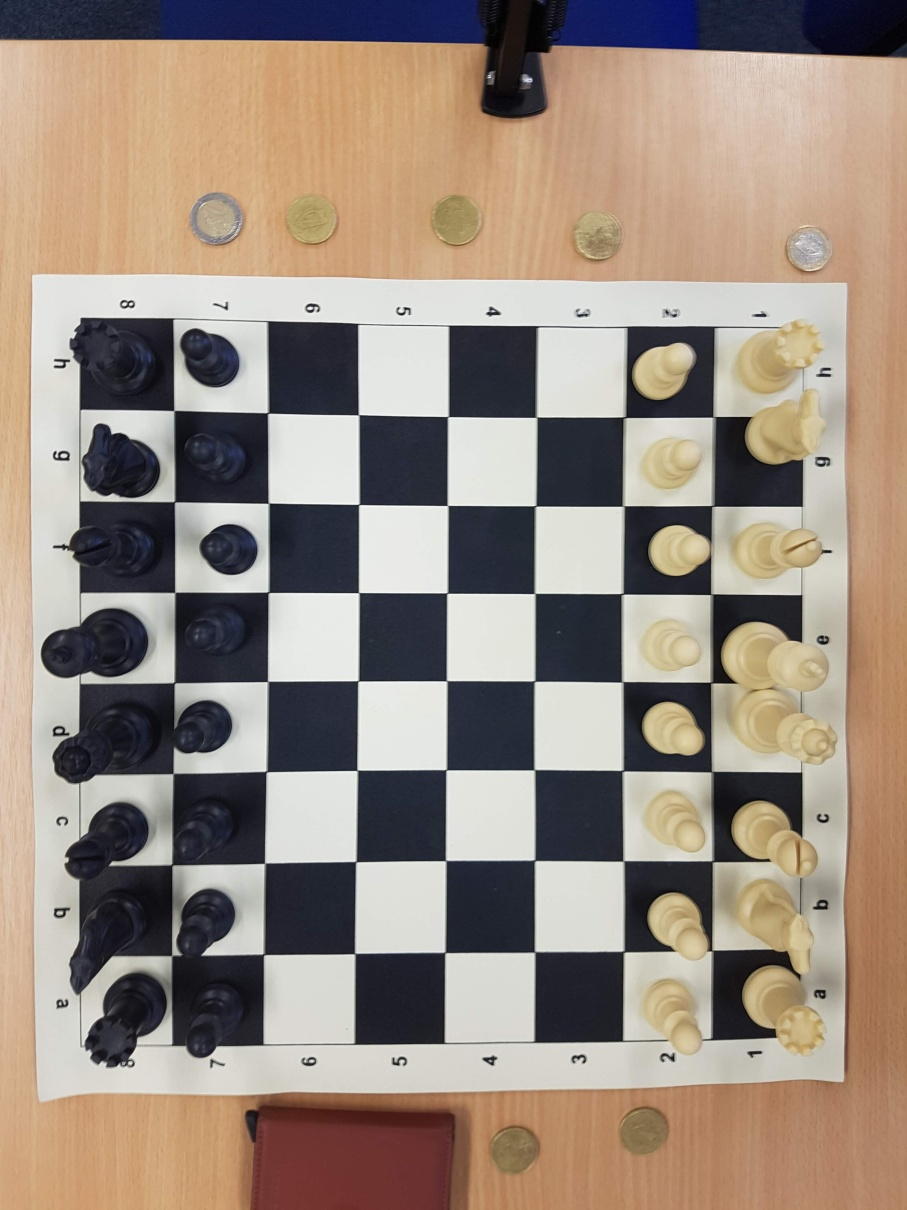chess_bishop: (64, 801, 150, 881), (732, 800, 818, 877), (69, 521, 158, 579), (734, 522, 823, 578)
chess_king: (720, 617, 828, 691), (40, 608, 146, 679)
chess_knight: (68, 889, 144, 993), (736, 880, 818, 971), (82, 422, 163, 499), (746, 391, 827, 466)
chess_pawn: (85, 972, 167, 1067), (743, 966, 826, 1055), (738, 319, 823, 394), (643, 979, 703, 1054), (648, 891, 708, 962), (185, 985, 242, 1058), (177, 889, 235, 956), (631, 343, 697, 401), (174, 798, 235, 858), (645, 791, 705, 852), (180, 329, 239, 386), (643, 701, 702, 755), (173, 701, 233, 754), (647, 524, 709, 575), (641, 619, 700, 672), (183, 432, 244, 483), (644, 436, 703, 488), (199, 524, 257, 574), (185, 607, 245, 655)
chess_queen: (53, 702, 158, 783), (732, 689, 837, 767)
chess_rook: (71, 321, 153, 395)
